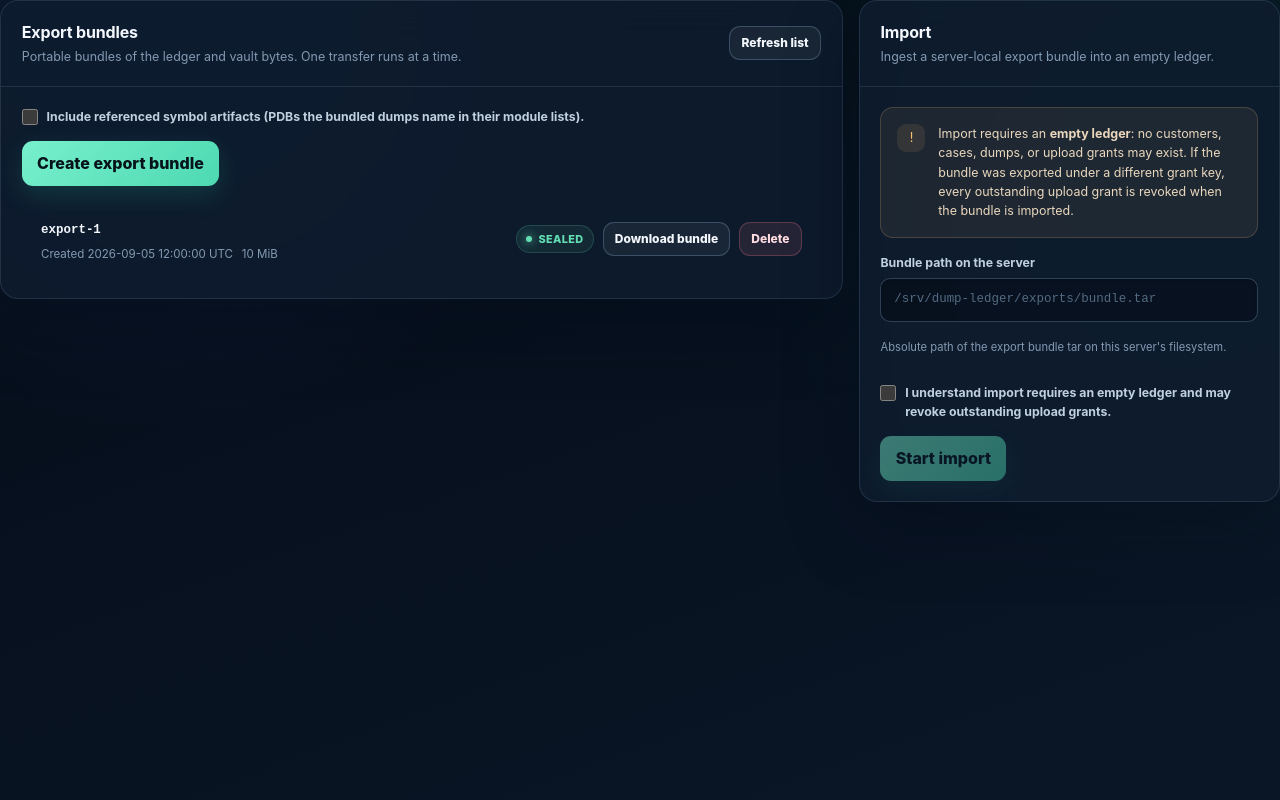
Test: Export / Import section › deletes an export bundle only after confirmation
This screenshot has width=1280, height=800.
Expected: the text "export-1" is shown, [41,223,101,237]
Click the button "Delete" at (770, 239), box [739,222,802,256]
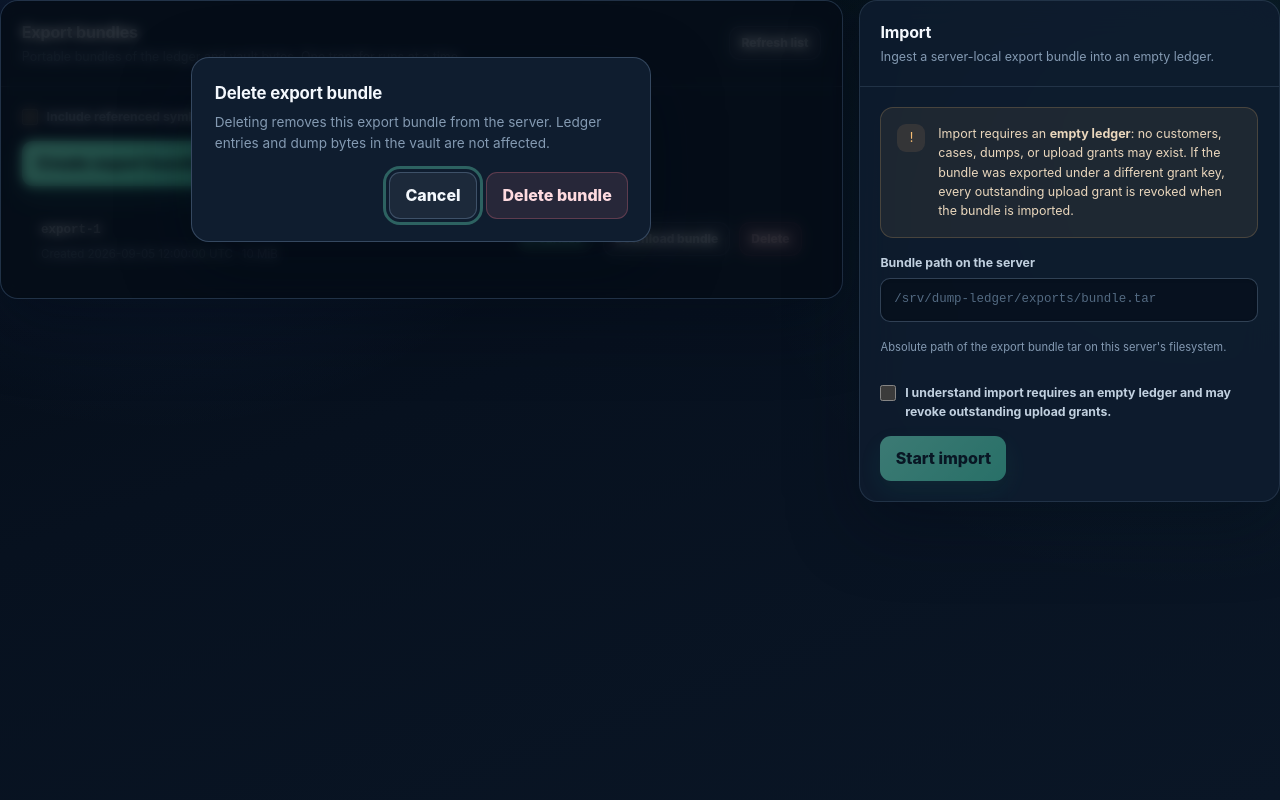
Expected: the dialog "Delete export bundle" is shown, [191,57,651,242]
// Cancel keeps the bundle and never calls the server.
Click the button "Cancel" at (433, 195), box [389,172,477,219]
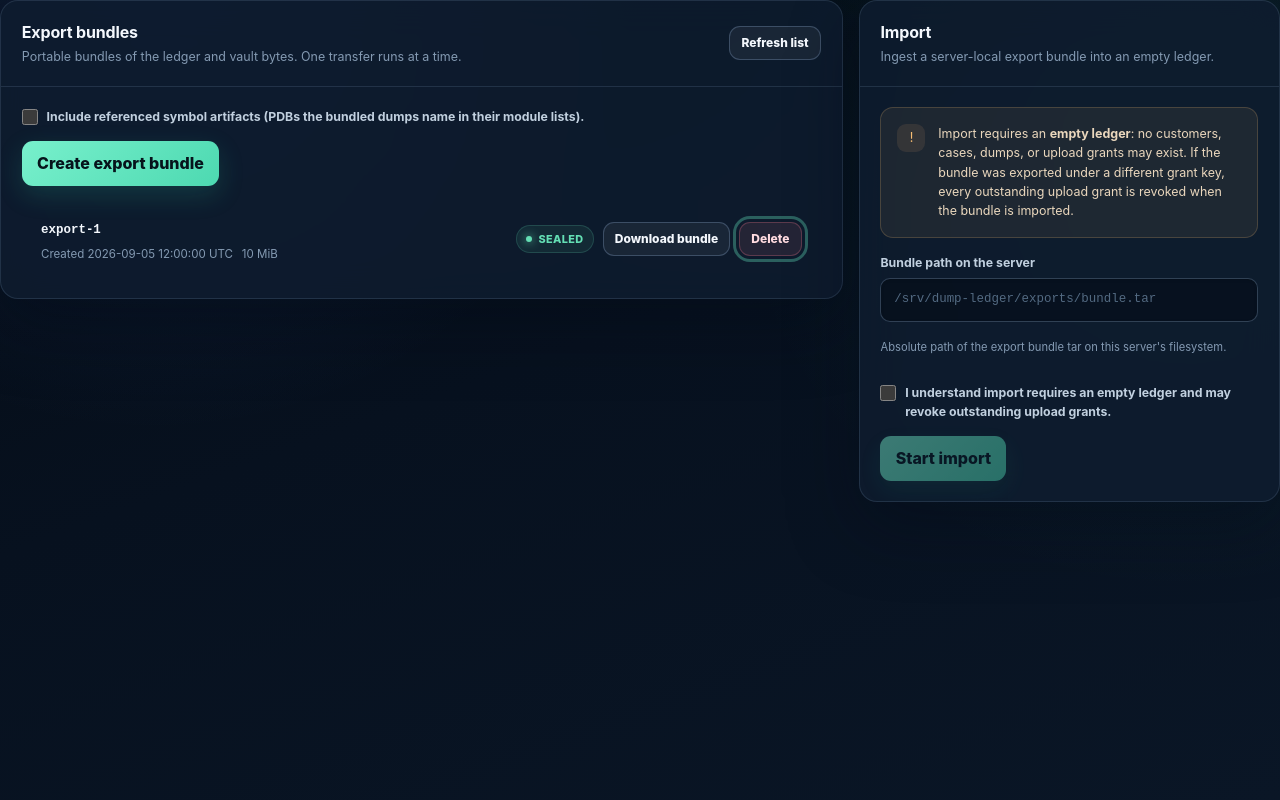
Expected: the text "export-1" is shown, [41,223,101,237]
Expected: the dialog is gone
// Confirm deletes and the refreshed list drops the row.
Click the button "Delete" at (770, 239), box [739,222,802,256]
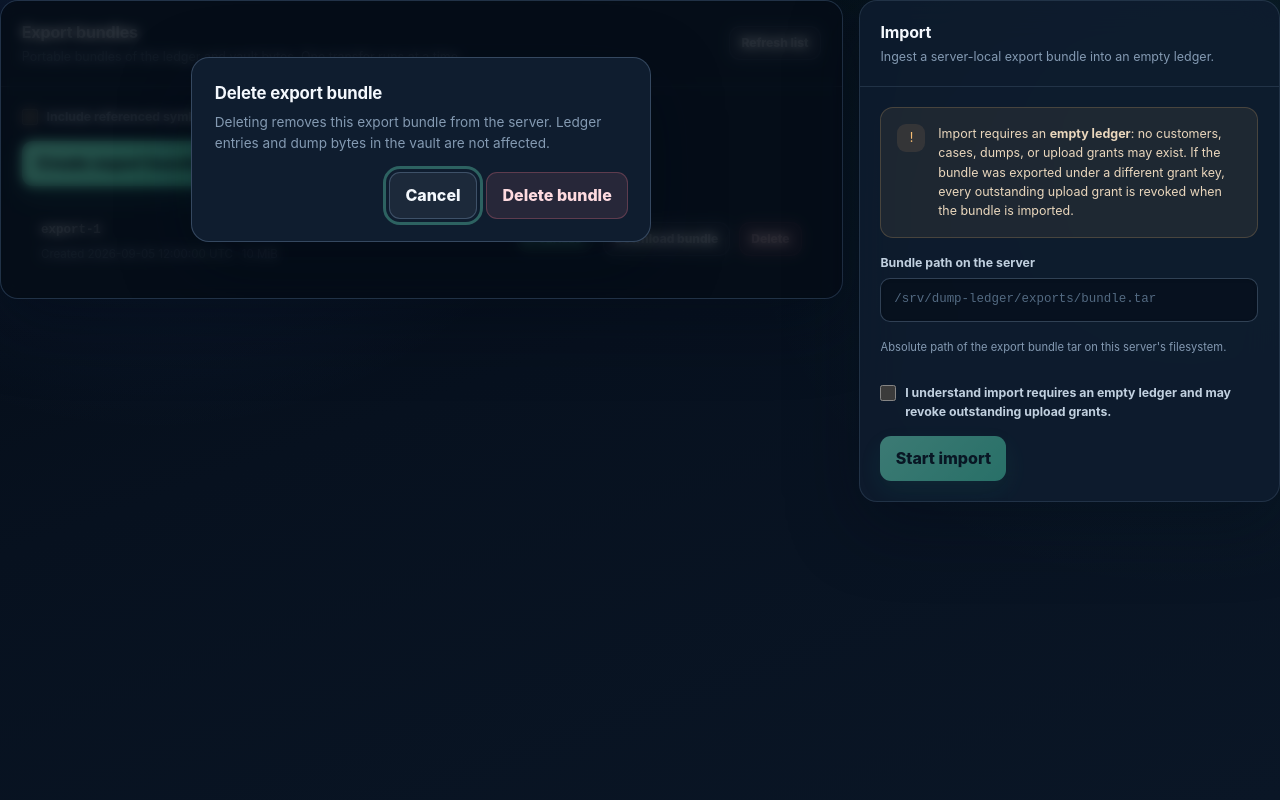
Click the button "Delete bundle" at (557, 195), box [486,172,628,219]
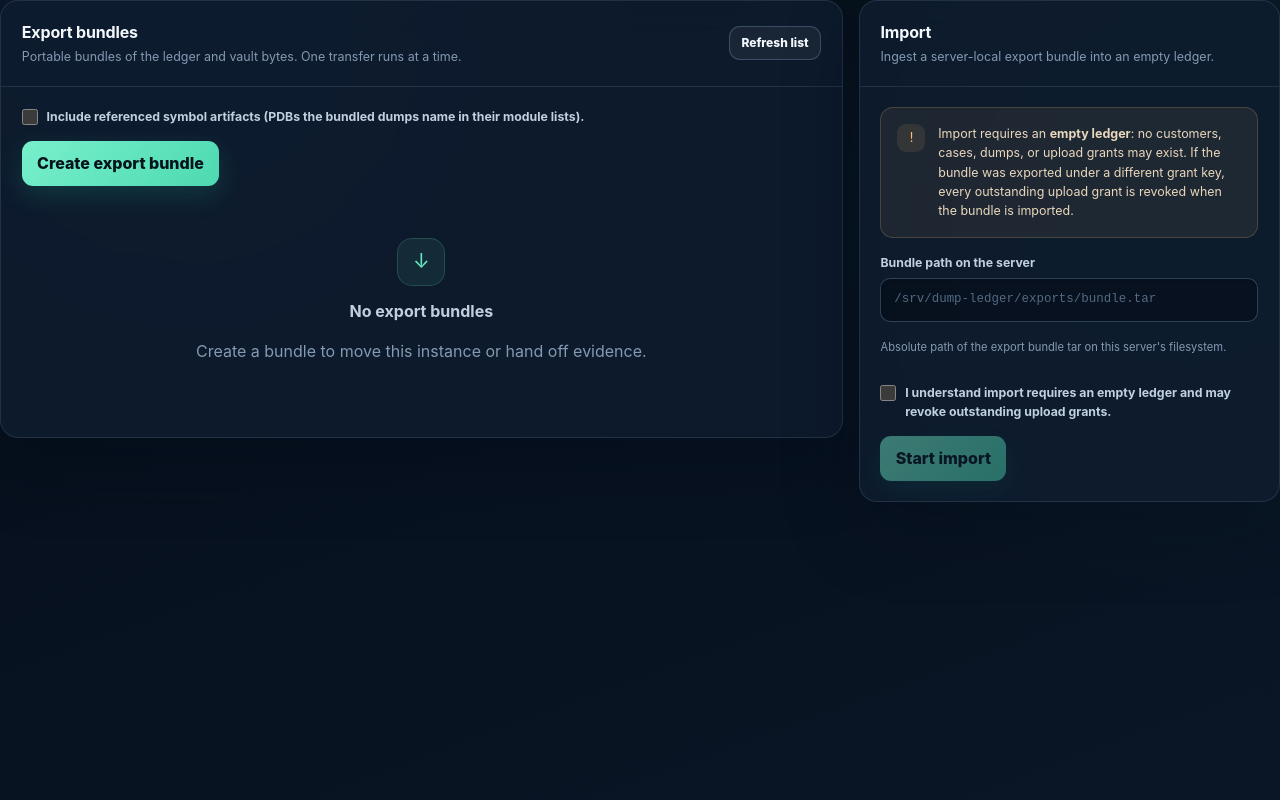
Expected: the text "No export bundles" is shown, [350,301,493,321]
